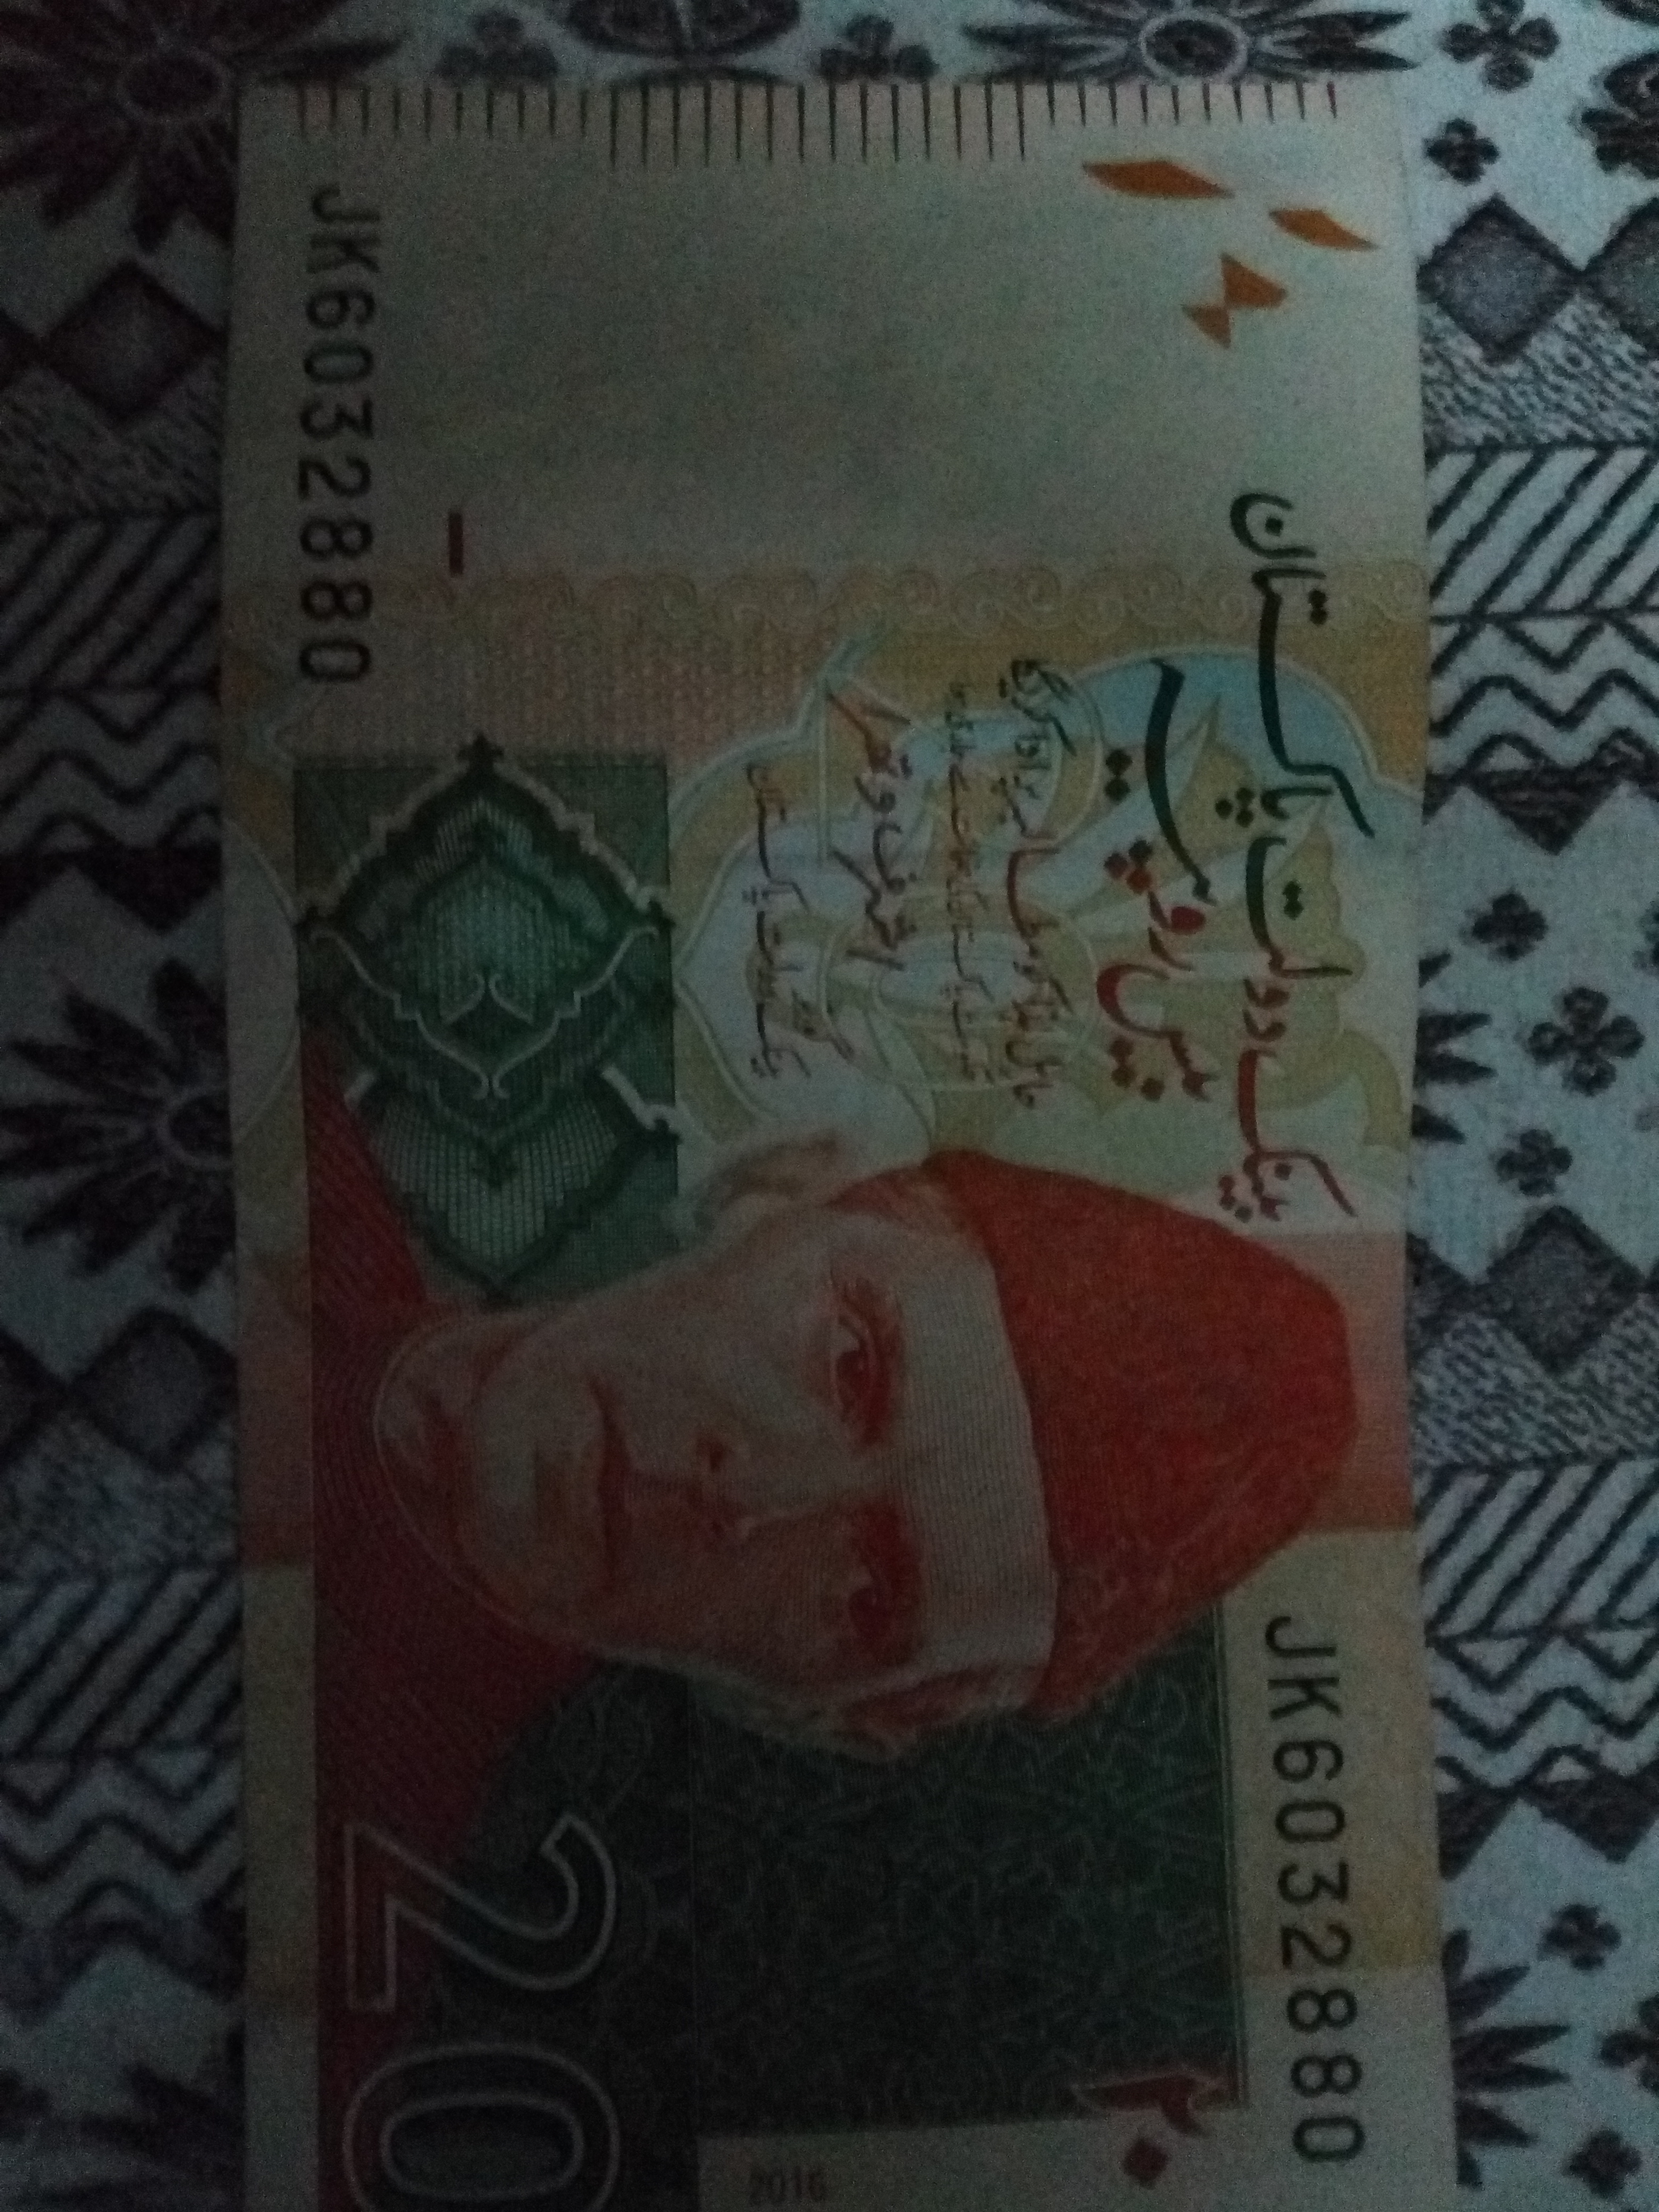20 rupee: (171, 113, 1460, 2146)
